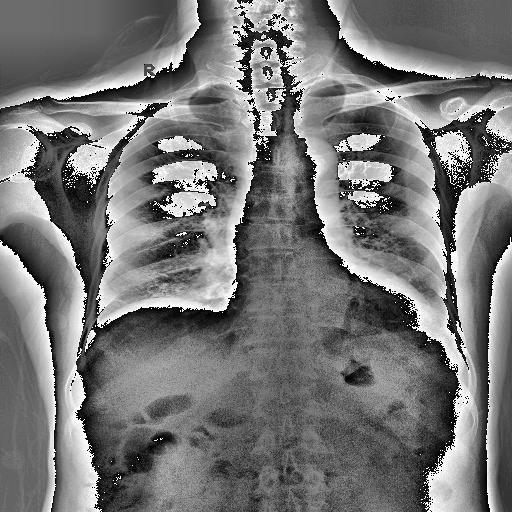0- Aortic enlargement: (282, 134, 336, 197), (295, 138, 339, 178)
3- Cardiomegaly: (214, 270, 440, 342), (222, 270, 436, 337), (227, 276, 435, 334)
